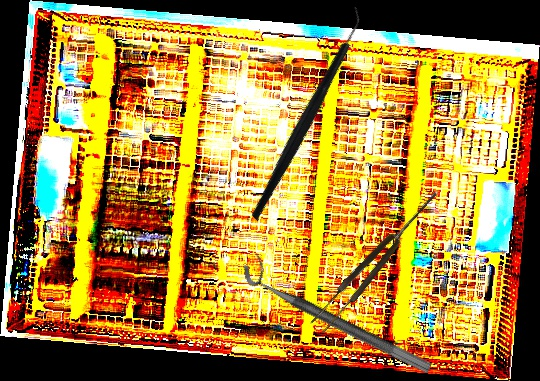Chopper: (190, 1, 420, 224)
Fixation Ring: (237, 250, 441, 376)
Tissue Forceps: (307, 185, 447, 336)
